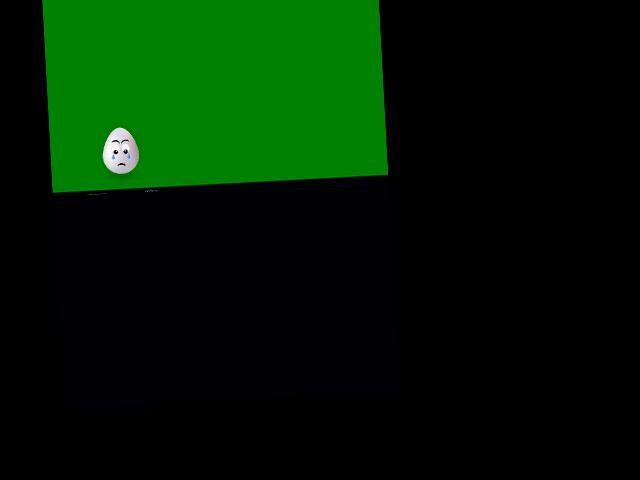egg: (101, 126, 140, 174)
